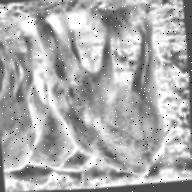boar: (20, 5, 192, 183)
